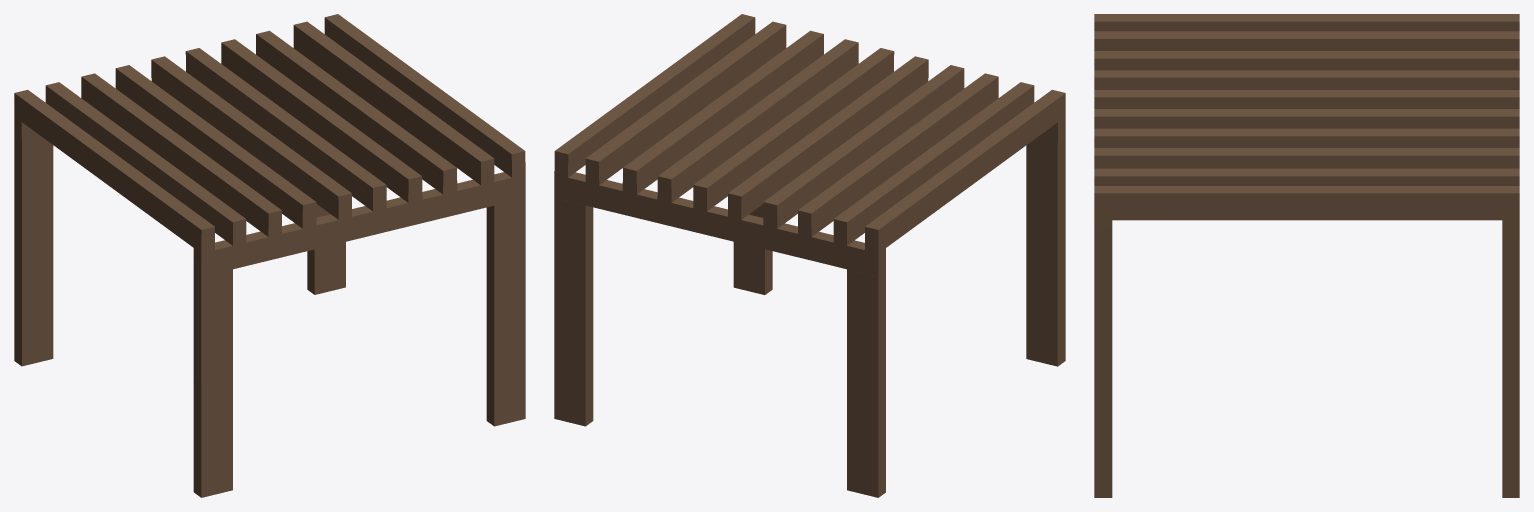
File: Patio.fbx
3 views of the same model, side by side, from view 1: azimuth 30°, elevation 25°; view 2: azimuth 150°, elevation 25°; view 3: azimuth 270°, elevation 25° (orthographic). The views are drawn at different scales.
Parts seen in each view (by area): view 1: Colonna liscia.002; view 2: Colonna liscia.002; view 3: Colonna liscia.002.
Boxes of the visible parts, bbox=[...] form: Colonna liscia.002: bbox=[14, 14, 525, 497]; Colonna liscia.002: bbox=[554, 14, 1065, 497]; Colonna liscia.002: bbox=[1094, 14, 1519, 497].
Bounding box in the file's own units: 926 × 732 × 926.
